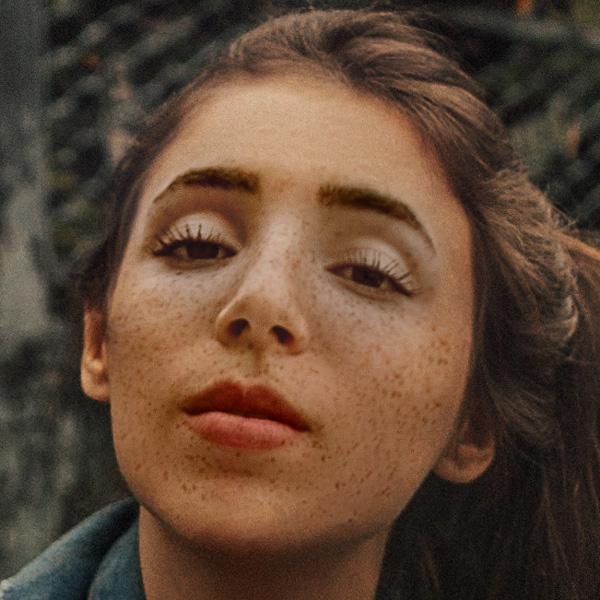Eyes: (314, 224, 416, 311), (150, 204, 246, 279)
